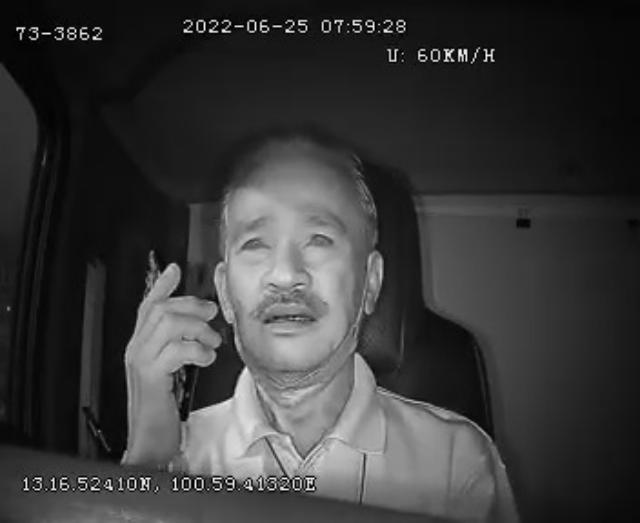PhoneUse: (137, 244, 200, 424)
SafeDriving: (232, 220, 278, 265), (300, 218, 342, 258)
